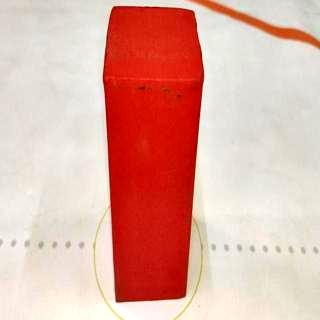redbox: (108, 6, 191, 302)
